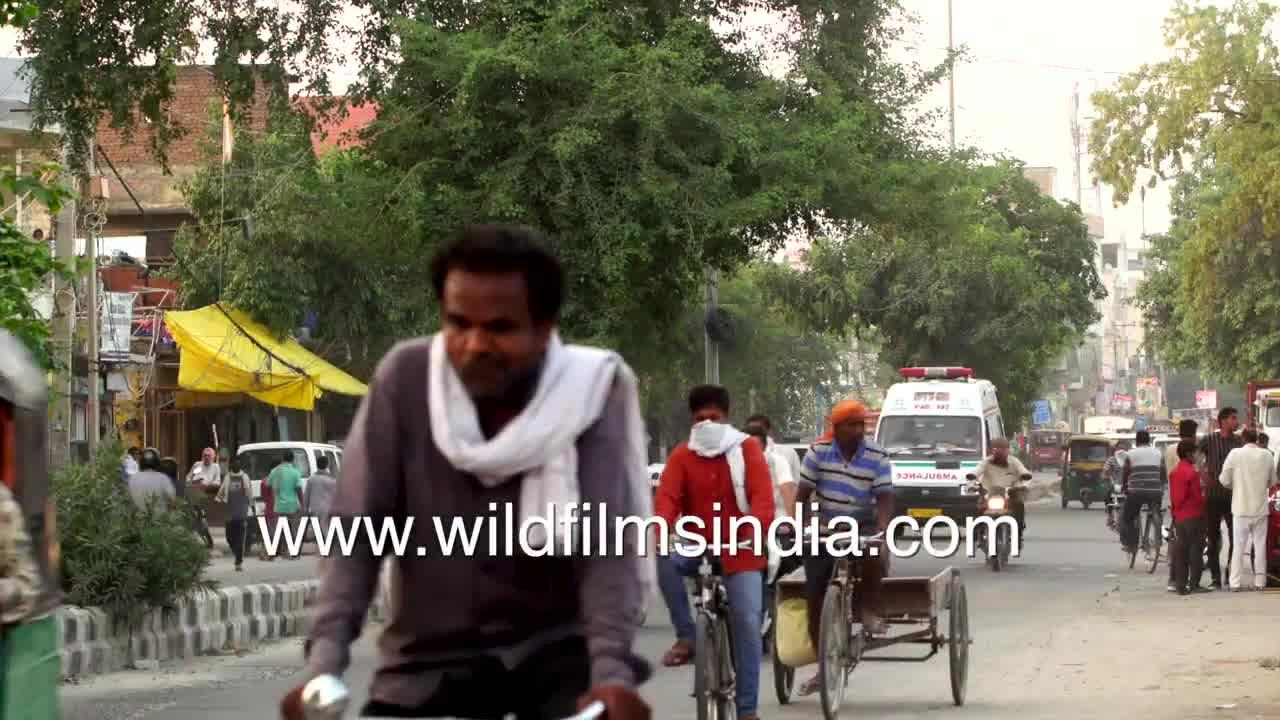AMBULANCE: (882, 363, 978, 496)
